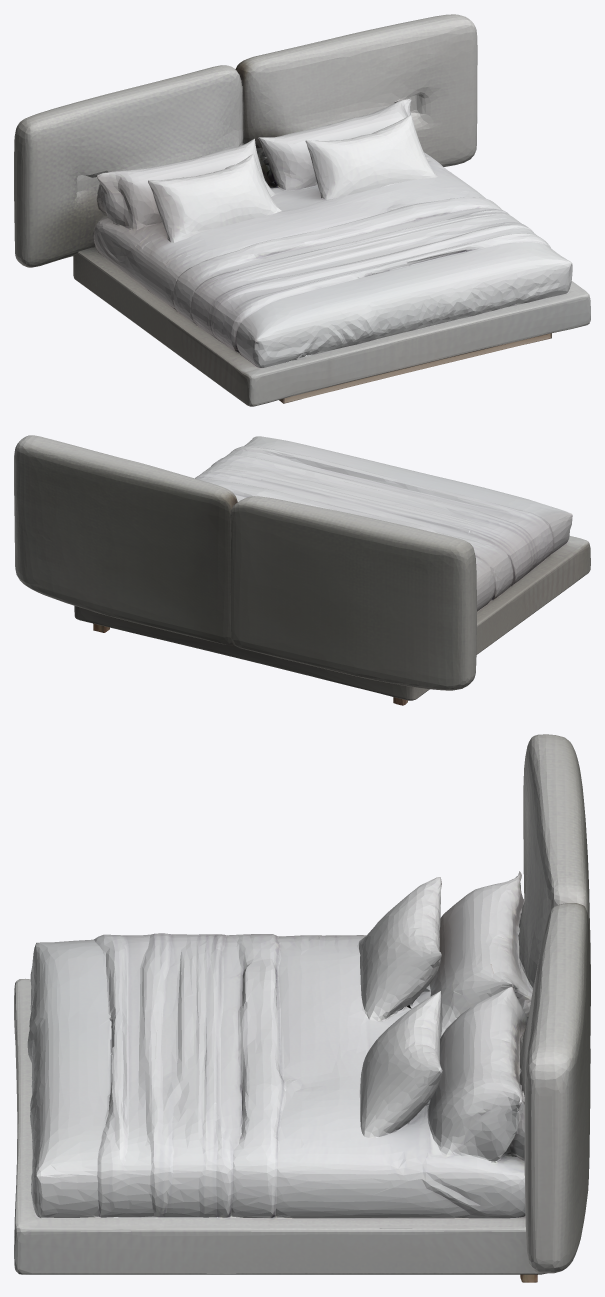
Rendered from CAMA SANTA FE KG GELLAR MARBLE.glb.
The picture shows the model from 3 angles, top to bottom: view 1: azimuth 30°, elevation 25°; view 2: azimuth 150°, elevation 25°; view 3: azimuth 270°, elevation 25°; orthographic projection. The views are drawn at different scales.
Parts seen in each view (by area): view 1: world; view 2: world; view 3: world.
Boxes of the visible parts, <box> form: world: <box>14,14,590,406</box>; world: <box>14,435,590,705</box>; world: <box>14,734,590,1282</box>.
Bounding box in the file's own units: 3 × 1.15 × 2.17.
Materials: 1 (1 with a texture image).
